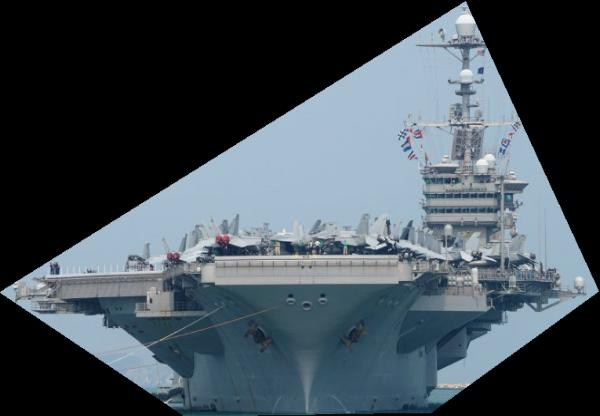Aircraft Carrier: (0, 1, 599, 416)
